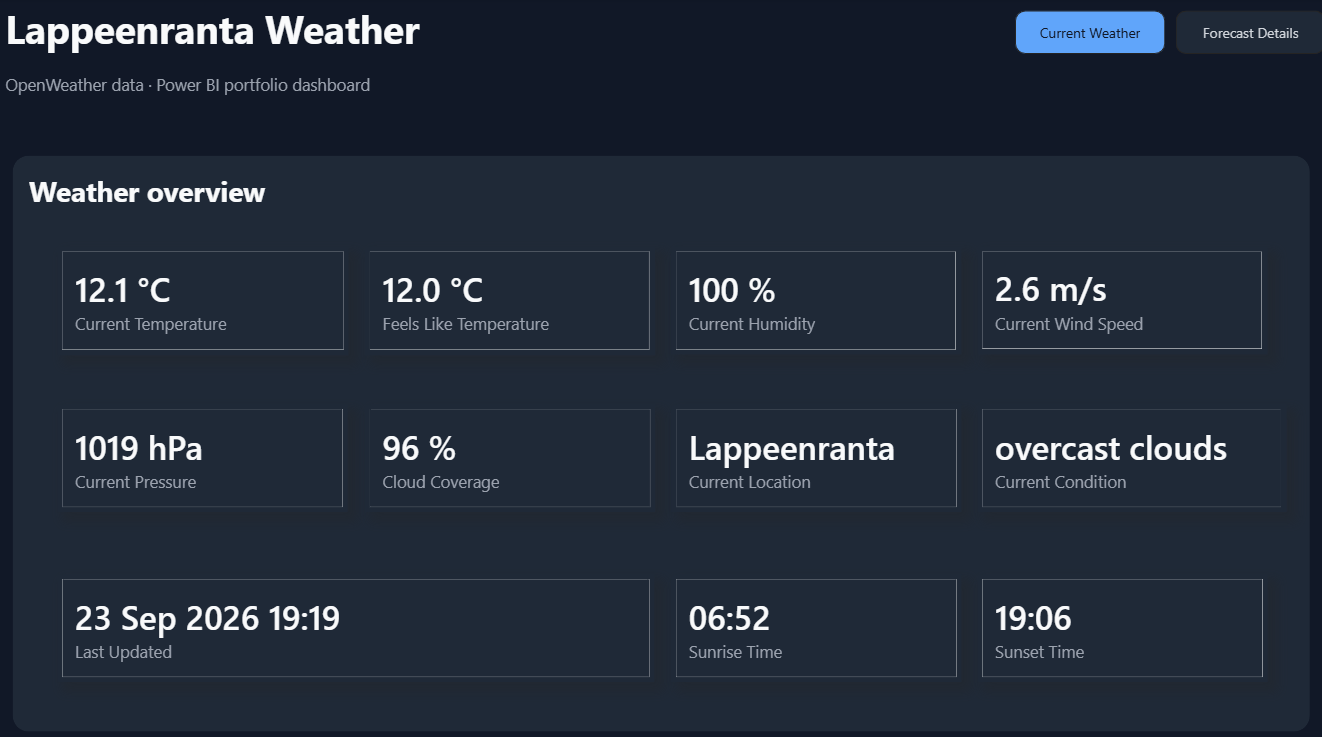

Layout of this report page (visuals, bound fields, positions):
{"tool":"powerbi","page":{"name":"Current Weather","canvas":[1280,720],"ordinal":0},"visuals":[{"type":"shape","box":[12.1,152,1252.3,556.2],"z":0},{"type":"cardVisual","fields":{"Data":["CurrentWeather.Current Temperature"]},"box":[56,240.1,281.1,105],"z":1000},{"type":"cardVisual","fields":{"Data":["CurrentWeather.Feels Like Temperature"]},"box":[352,240.1,279.9,105],"z":2000},{"type":"cardVisual","fields":{"Data":["CurrentWeather.Current Humidity"]},"box":[648,240.1,279.9,104],"z":3000},{"type":"cardVisual","fields":{"Data":["CurrentWeather.Current Wind Speed"]},"box":[944,240.1,279.9,103.8],"z":4000},{"type":"cardVisual","fields":{"Data":["CurrentWeather.Current Pressure"]},"box":[56,392.5,280,104],"z":5000},{"type":"cardVisual","fields":{"Data":["CurrentWeather.Cloud Coverage"]},"box":[352,392.5,280,104],"z":6000},{"type":"cardVisual","fields":{"Data":["CurrentWeather.Current Location"]},"box":[648,392.5,280,104],"z":7000},{"type":"cardVisual","fields":{"Data":["CurrentWeather.Current Condition"]},"box":[944,392.5,298.7,104],"z":8000},{"type":"cardVisual","fields":{"Data":["CurrentWeather.Last Updated"]},"box":[56,556.4,576,104],"z":9000},{"type":"cardVisual","fields":{"Data":["CurrentWeather.Sunrise Time"]},"box":[648,556.4,280,104],"z":10000},{"type":"cardVisual","fields":{"Data":["CurrentWeather.Sunset Time"]},"box":[944,556.4,280,104],"z":11000},{"type":"textbox","box":[0,0,758.4,67],"z":12000},{"type":"textbox","box":[0,67,758.4,42.1],"z":13000},{"type":"textbox","box":[22.9,162.9,279.9,53.1],"z":14000},{"type":"pageNavigator","box":[979.6,12.1,300.4,42.2],"z":15000}]}

Visuals, with their boxes in screenshot pixels (x1, y1, x2, y2), scaled from the page's 1280x720 canvas onto the 1322x737 screenshot:
shape: 12,156,1306,725
cardVisual - CurrentWeather.Current Temperature: 58,246,348,353
cardVisual - CurrentWeather.Feels Like Temperature: 364,246,653,353
cardVisual - CurrentWeather.Current Humidity: 669,246,958,352
cardVisual - CurrentWeather.Current Wind Speed: 975,246,1264,352
cardVisual - CurrentWeather.Current Pressure: 58,402,347,508
cardVisual - CurrentWeather.Cloud Coverage: 364,402,653,508
cardVisual - CurrentWeather.Current Location: 669,402,958,508
cardVisual - CurrentWeather.Current Condition: 975,402,1283,508
cardVisual - CurrentWeather.Last Updated: 58,570,653,676
cardVisual - CurrentWeather.Sunrise Time: 669,570,958,676
cardVisual - CurrentWeather.Sunset Time: 975,570,1264,676
textbox: 0,0,783,69
textbox: 0,69,783,112
textbox: 24,167,313,221
pageNavigator: 1012,12,1321,56
